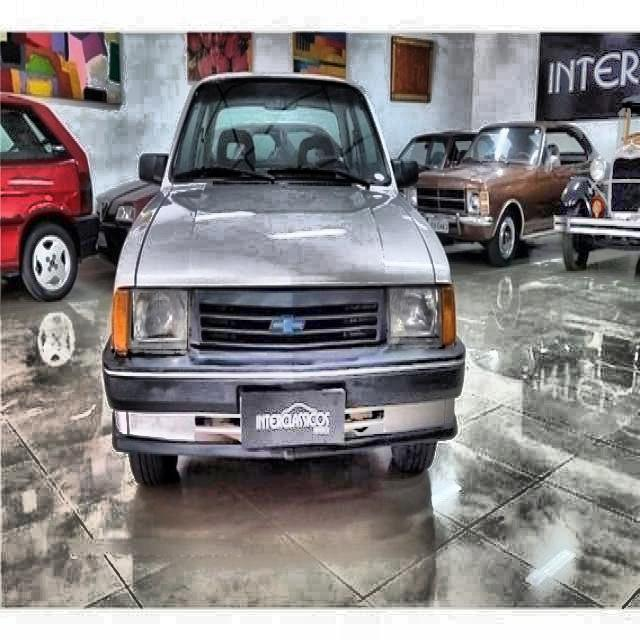carro: (100, 72, 463, 486), (403, 117, 609, 269)
